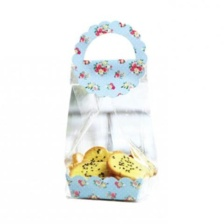snack: (54, 12, 166, 208)
